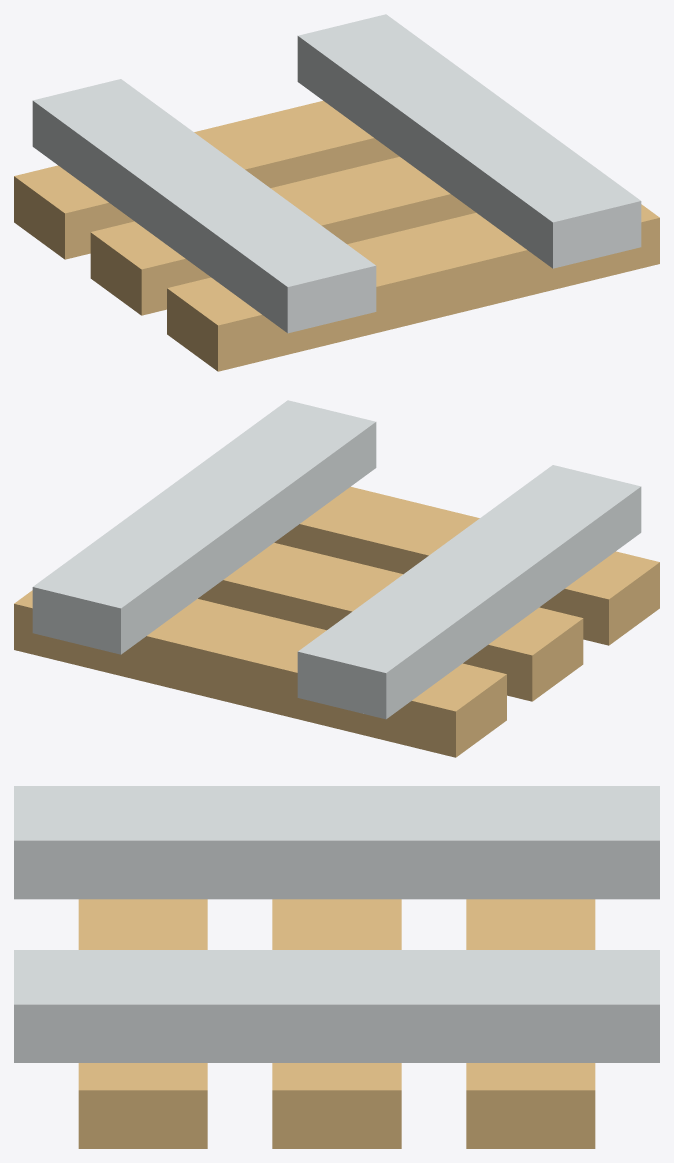
Rendered from trackStraight.fbx.
3 views of the same model, one above another, from view 1: azimuth 30°, elevation 25°; view 2: azimuth 150°, elevation 25°; view 3: azimuth 270°, elevation 25° (orthographic). The views are drawn at different scales.
Visible parts, largest first — view 1: trackStraight; view 2: trackStraight; view 3: trackStraight.
Boxes of the visible parts, bbox=[...] form: trackStraight: bbox=[14, 14, 659, 371]; trackStraight: bbox=[14, 400, 659, 757]; trackStraight: bbox=[14, 786, 659, 1148].
Bounding box in the file's own units: 10 × 2 × 10.
